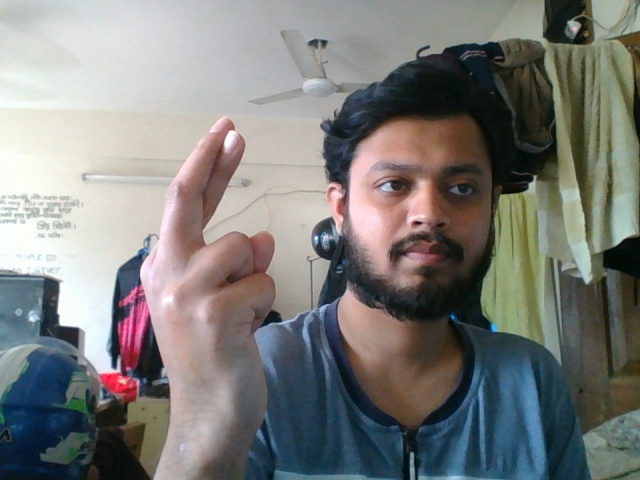r: (135, 111, 283, 469)
